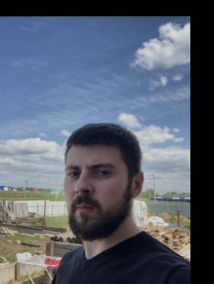without_mask: (63, 154, 126, 242)
